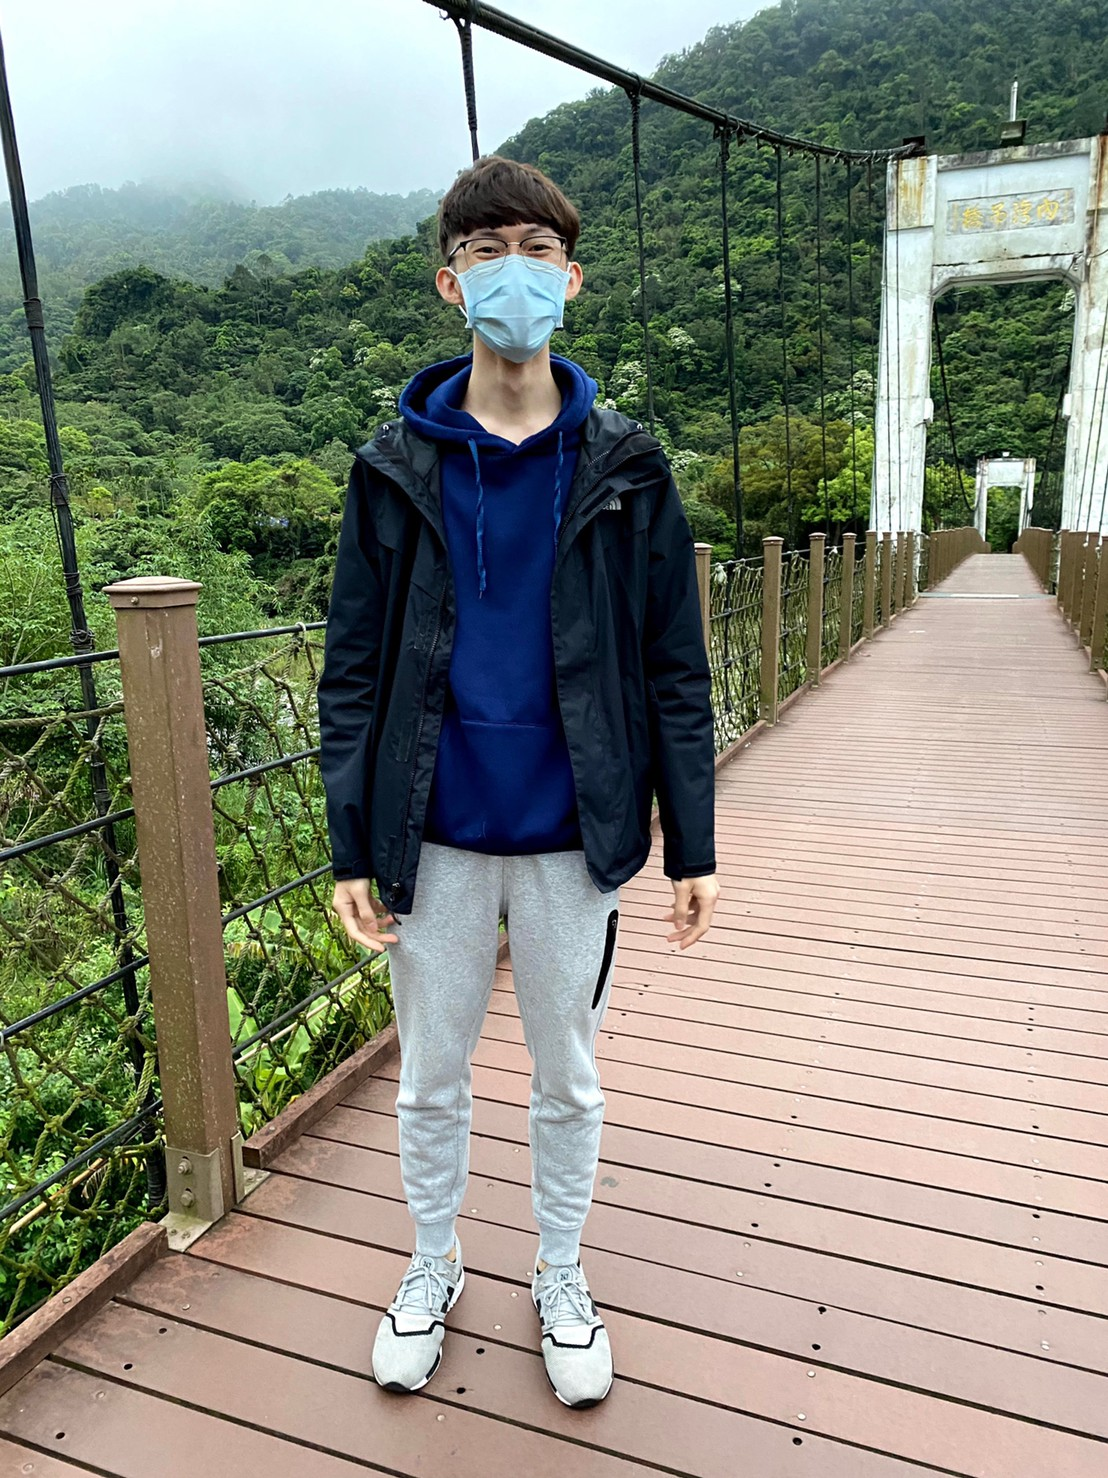people: (369, 157, 633, 1404)
